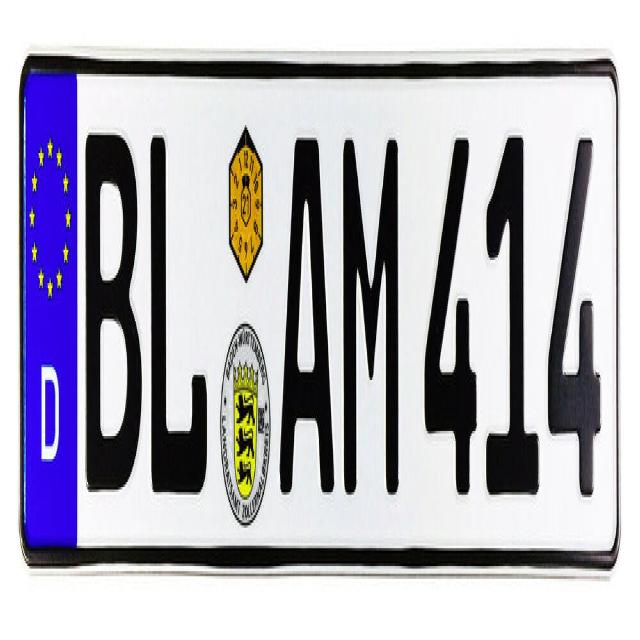Allemagne: (23, 68, 78, 541)
EU: (19, 58, 622, 567)
